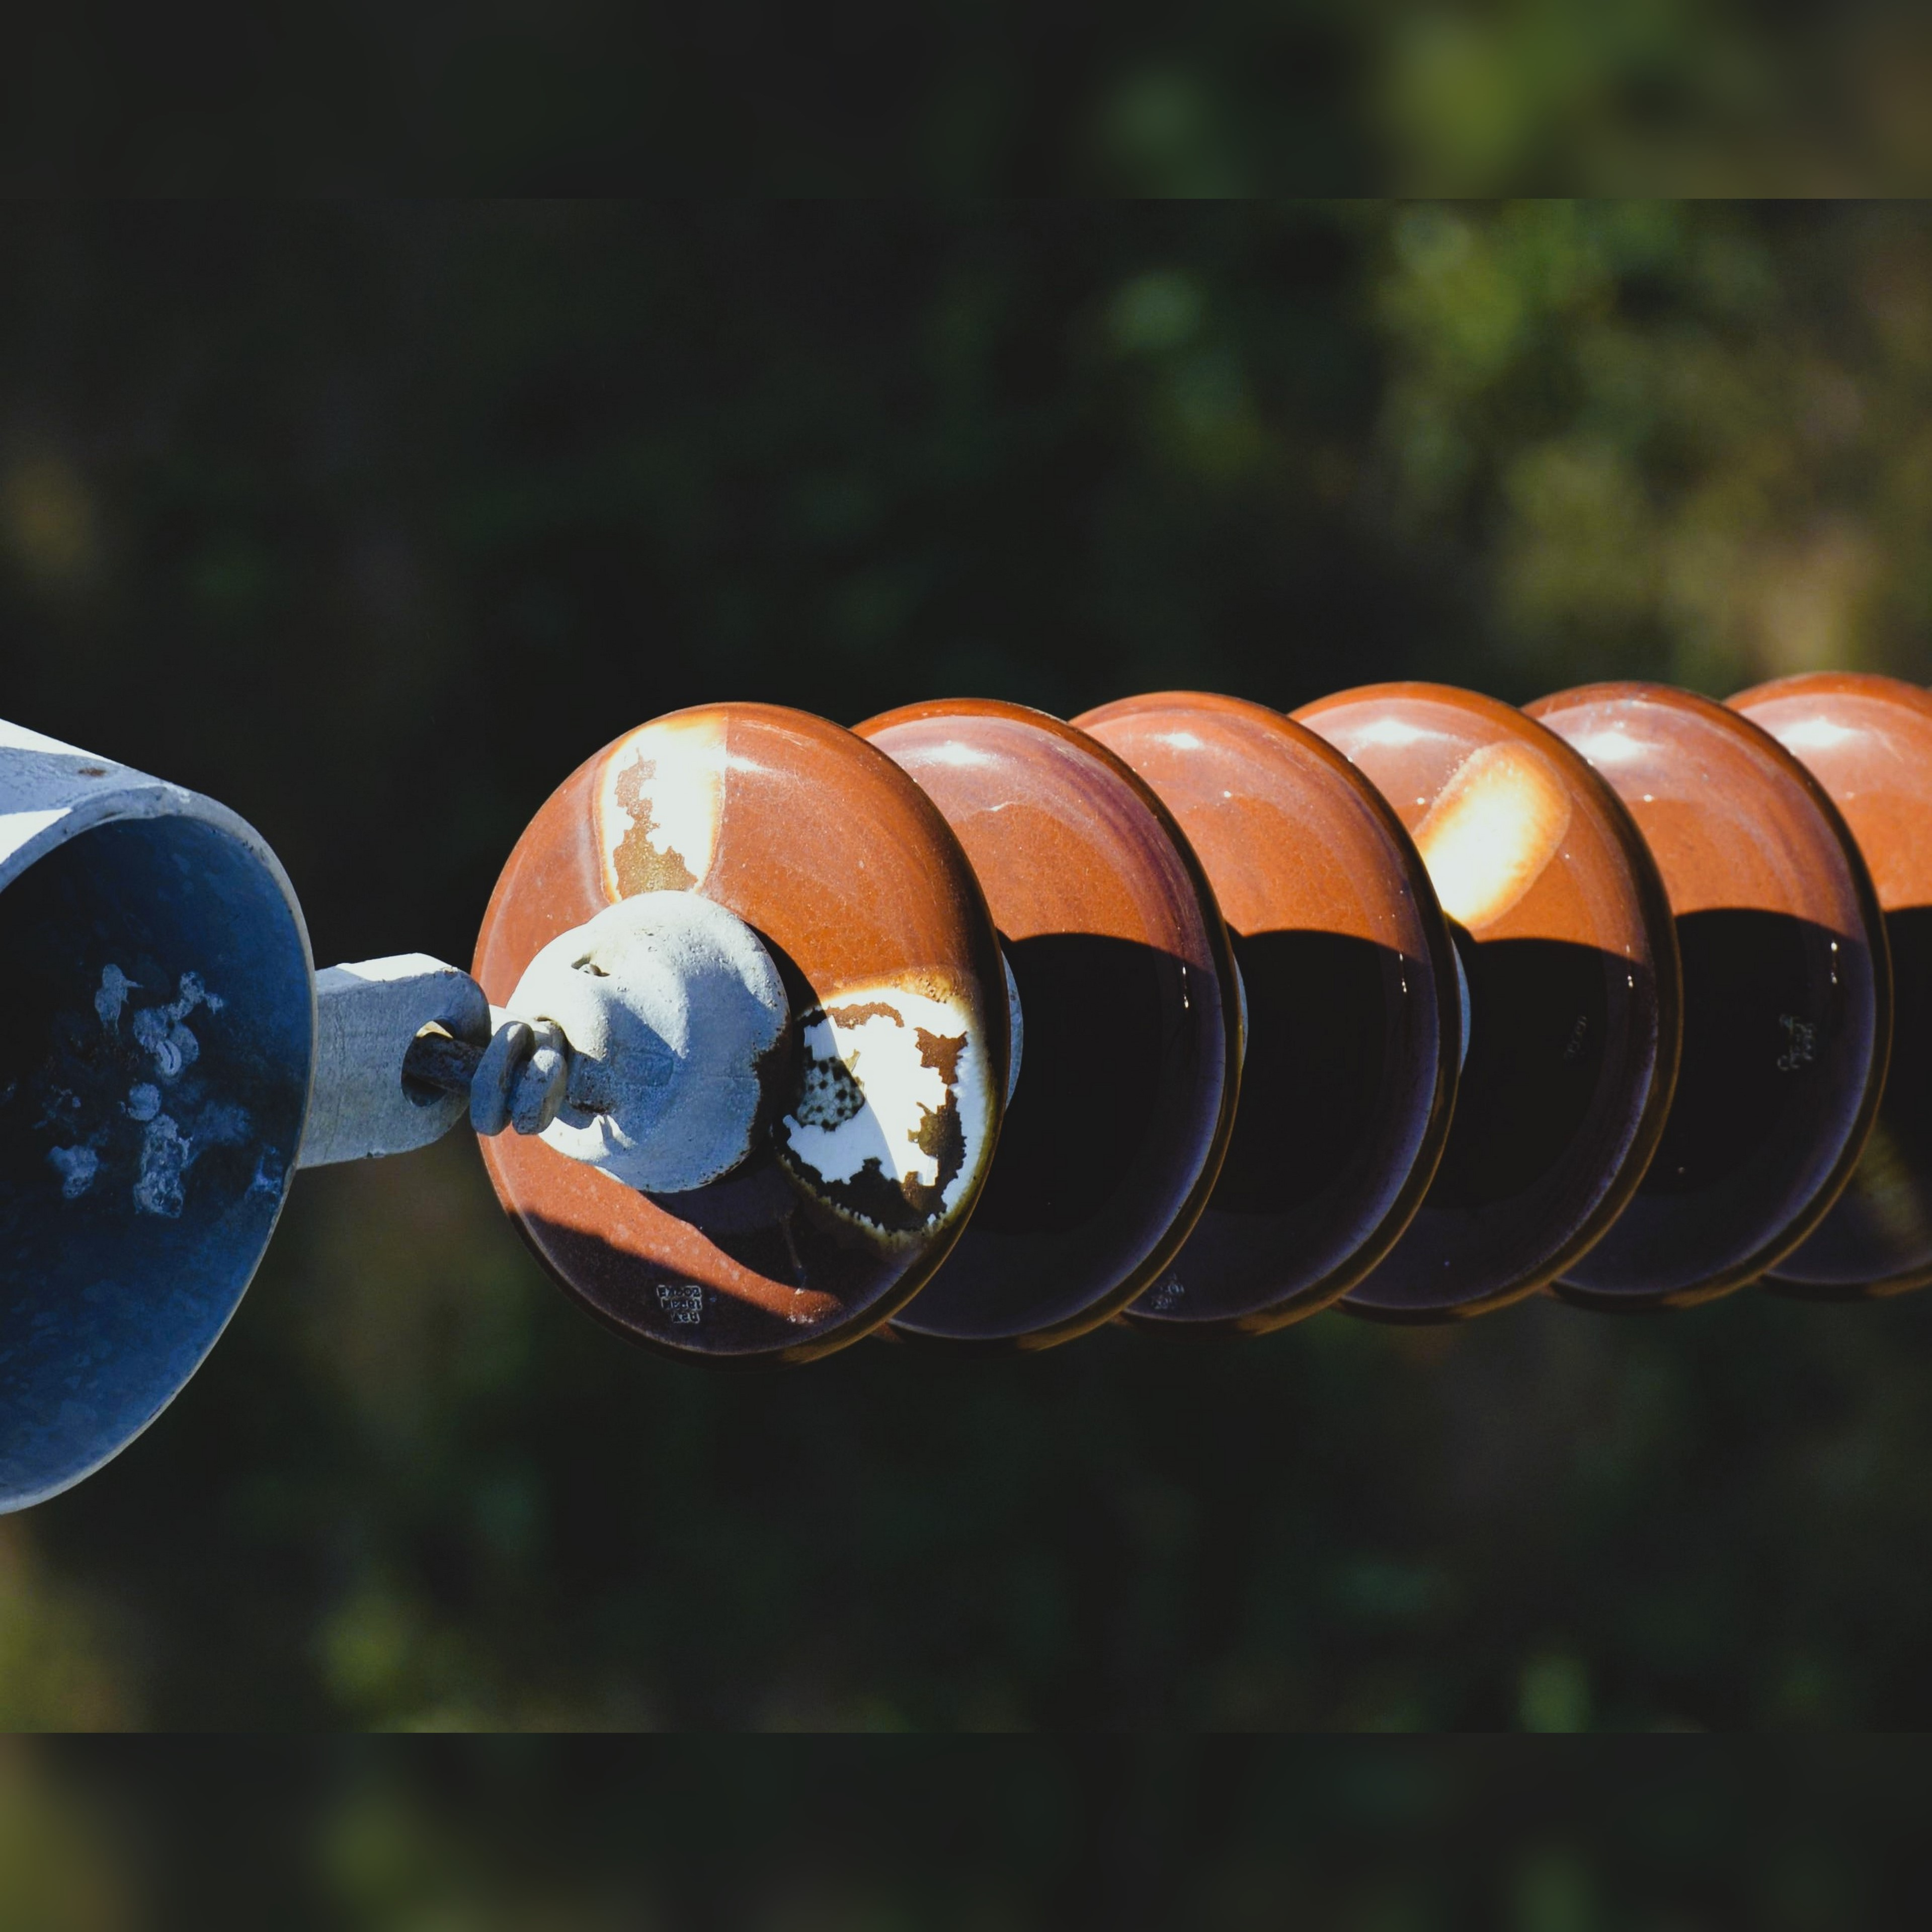Insulator flashover: (448, 697, 1031, 1384)
